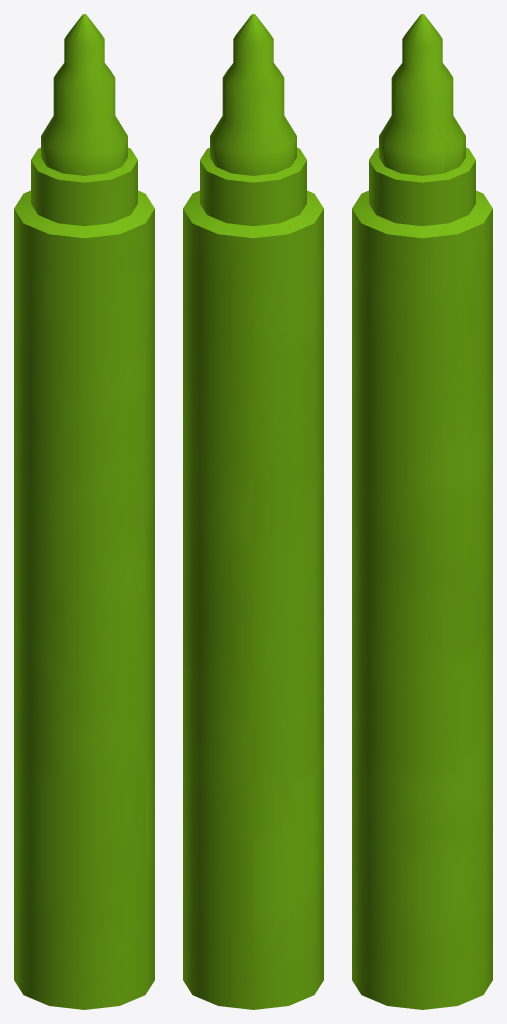
File: green_marker.obj
3 views of the same model, side by side, from view 1: azimuth 30°, elevation 25°; view 2: azimuth 150°, elevation 25°; view 3: azimuth 270°, elevation 25° (orthographic).
Parts seen in each view (by area): view 1: green_marker; view 2: green_marker; view 3: green_marker.
Part boxes in pixels (x1,y1,x2,y2): green_marker: (14,14,154,1009); green_marker: (183,14,323,1009); green_marker: (352,14,492,1009).
Bounding box in the file's own units: 0.0132 × 0.1 × 0.0132.
2 materials, 2 textured.
